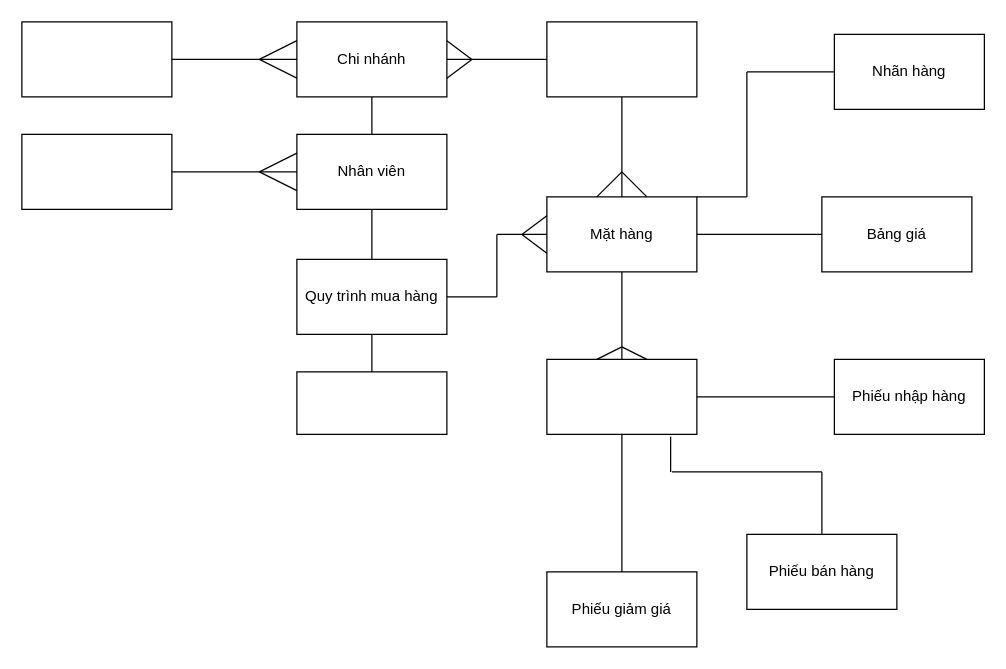
This 1006x669 diagram has some shape labels left out. Here are the shapes that lost their labels. From the top down, the box of each, then its label:
(21, 21, 172, 97): Khu vực
(546, 21, 697, 97): Nhà cung cấp
(21, 133, 172, 209): Phòng ban
(296, 371, 447, 434): Khách hàng
(546, 358, 697, 434): Hóa đơn thanh toán
